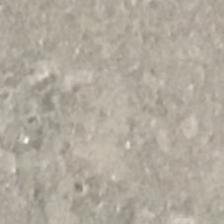Non_Crack: (50, 30, 224, 224)
